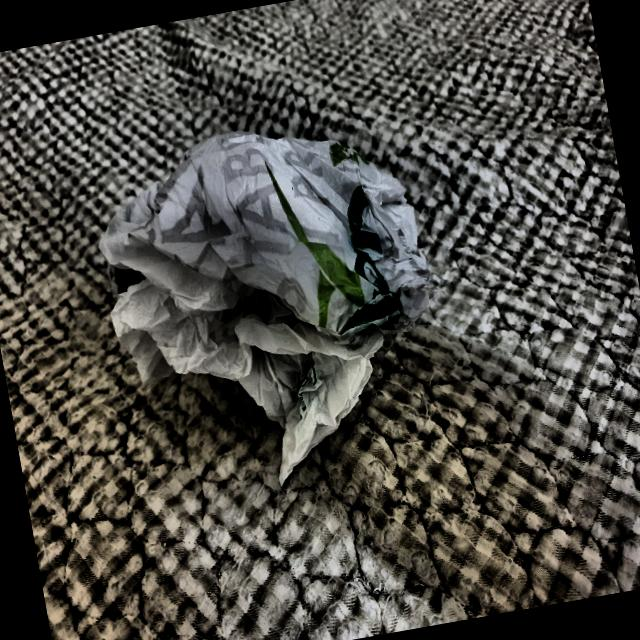plastic bag: (71, 82, 470, 522)
